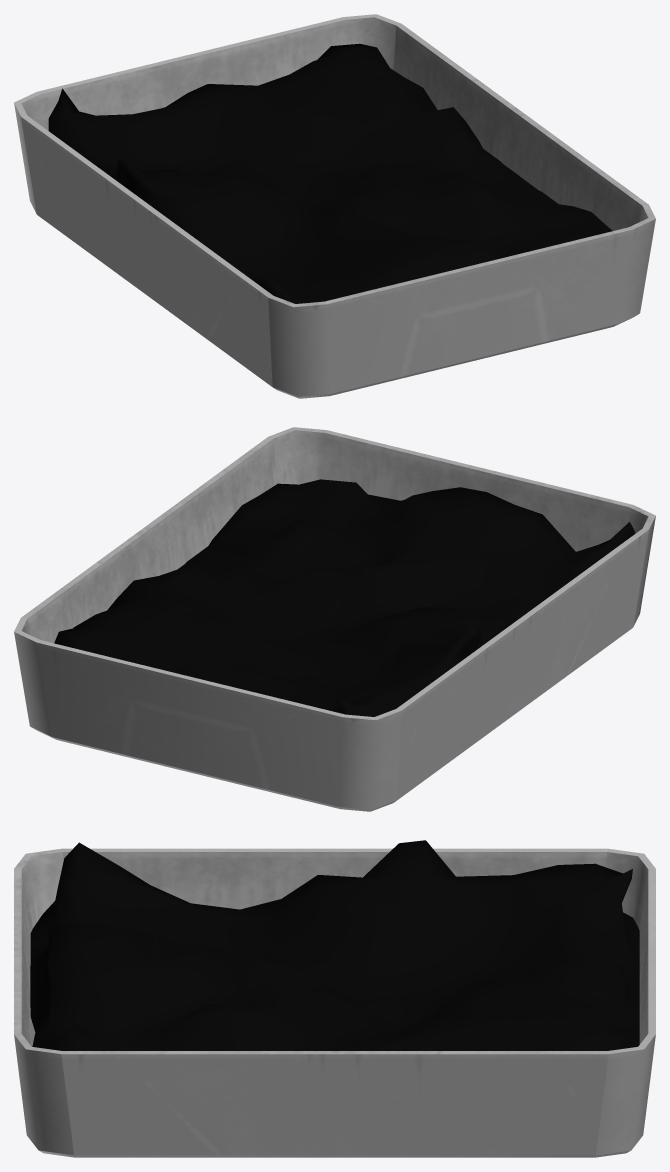
File: GarageBoxFilledSmall.FBX
The picture shows the model from 3 angles, top to bottom: view 1: azimuth 30°, elevation 25°; view 2: azimuth 150°, elevation 25°; view 3: azimuth 270°, elevation 25°; orthographic projection. The views are drawn at different scales.
Parts seen in each view (by area): view 1: GarageBoxSmallFilled_LOD0; view 2: GarageBoxSmallFilled_LOD0; view 3: GarageBoxSmallFilled_LOD0.
Boxes of the visible parts, bbox=[...] form: GarageBoxSmallFilled_LOD0: bbox=[14, 14, 655, 398]; GarageBoxSmallFilled_LOD0: bbox=[14, 427, 655, 811]; GarageBoxSmallFilled_LOD0: bbox=[14, 840, 655, 1157].
Size of what is drawn, in the model's own units: 35.08 by 10.22 by 46.31.
